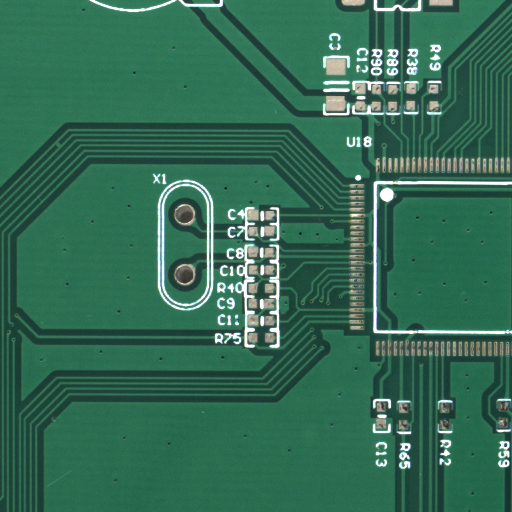Short: (58, 144, 66, 153)
